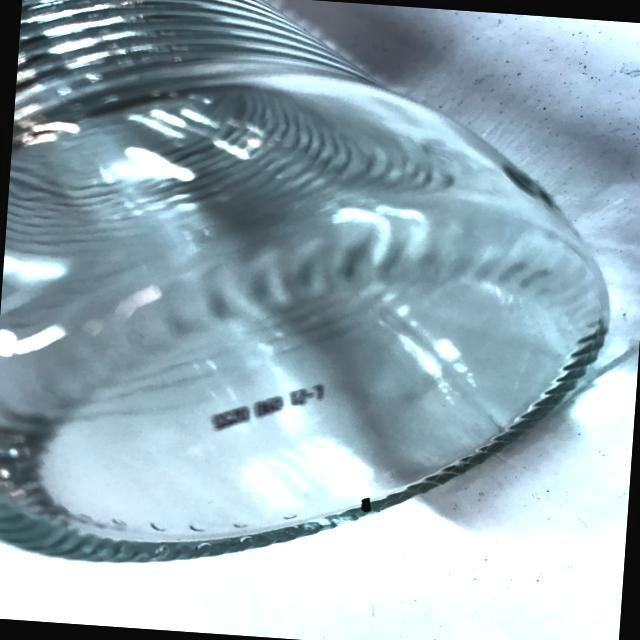glass: (0, 0, 634, 600)
